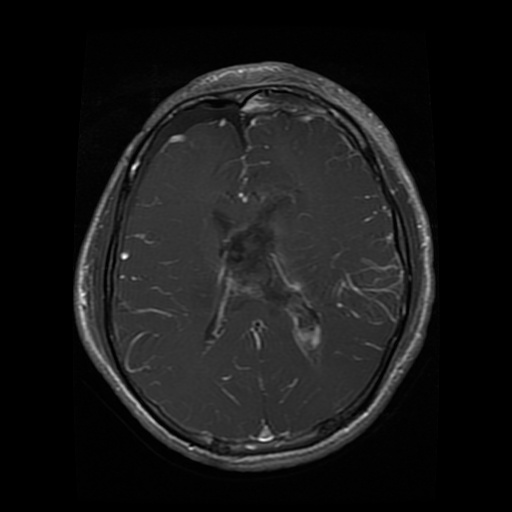glioma: (196, 187, 308, 308)
